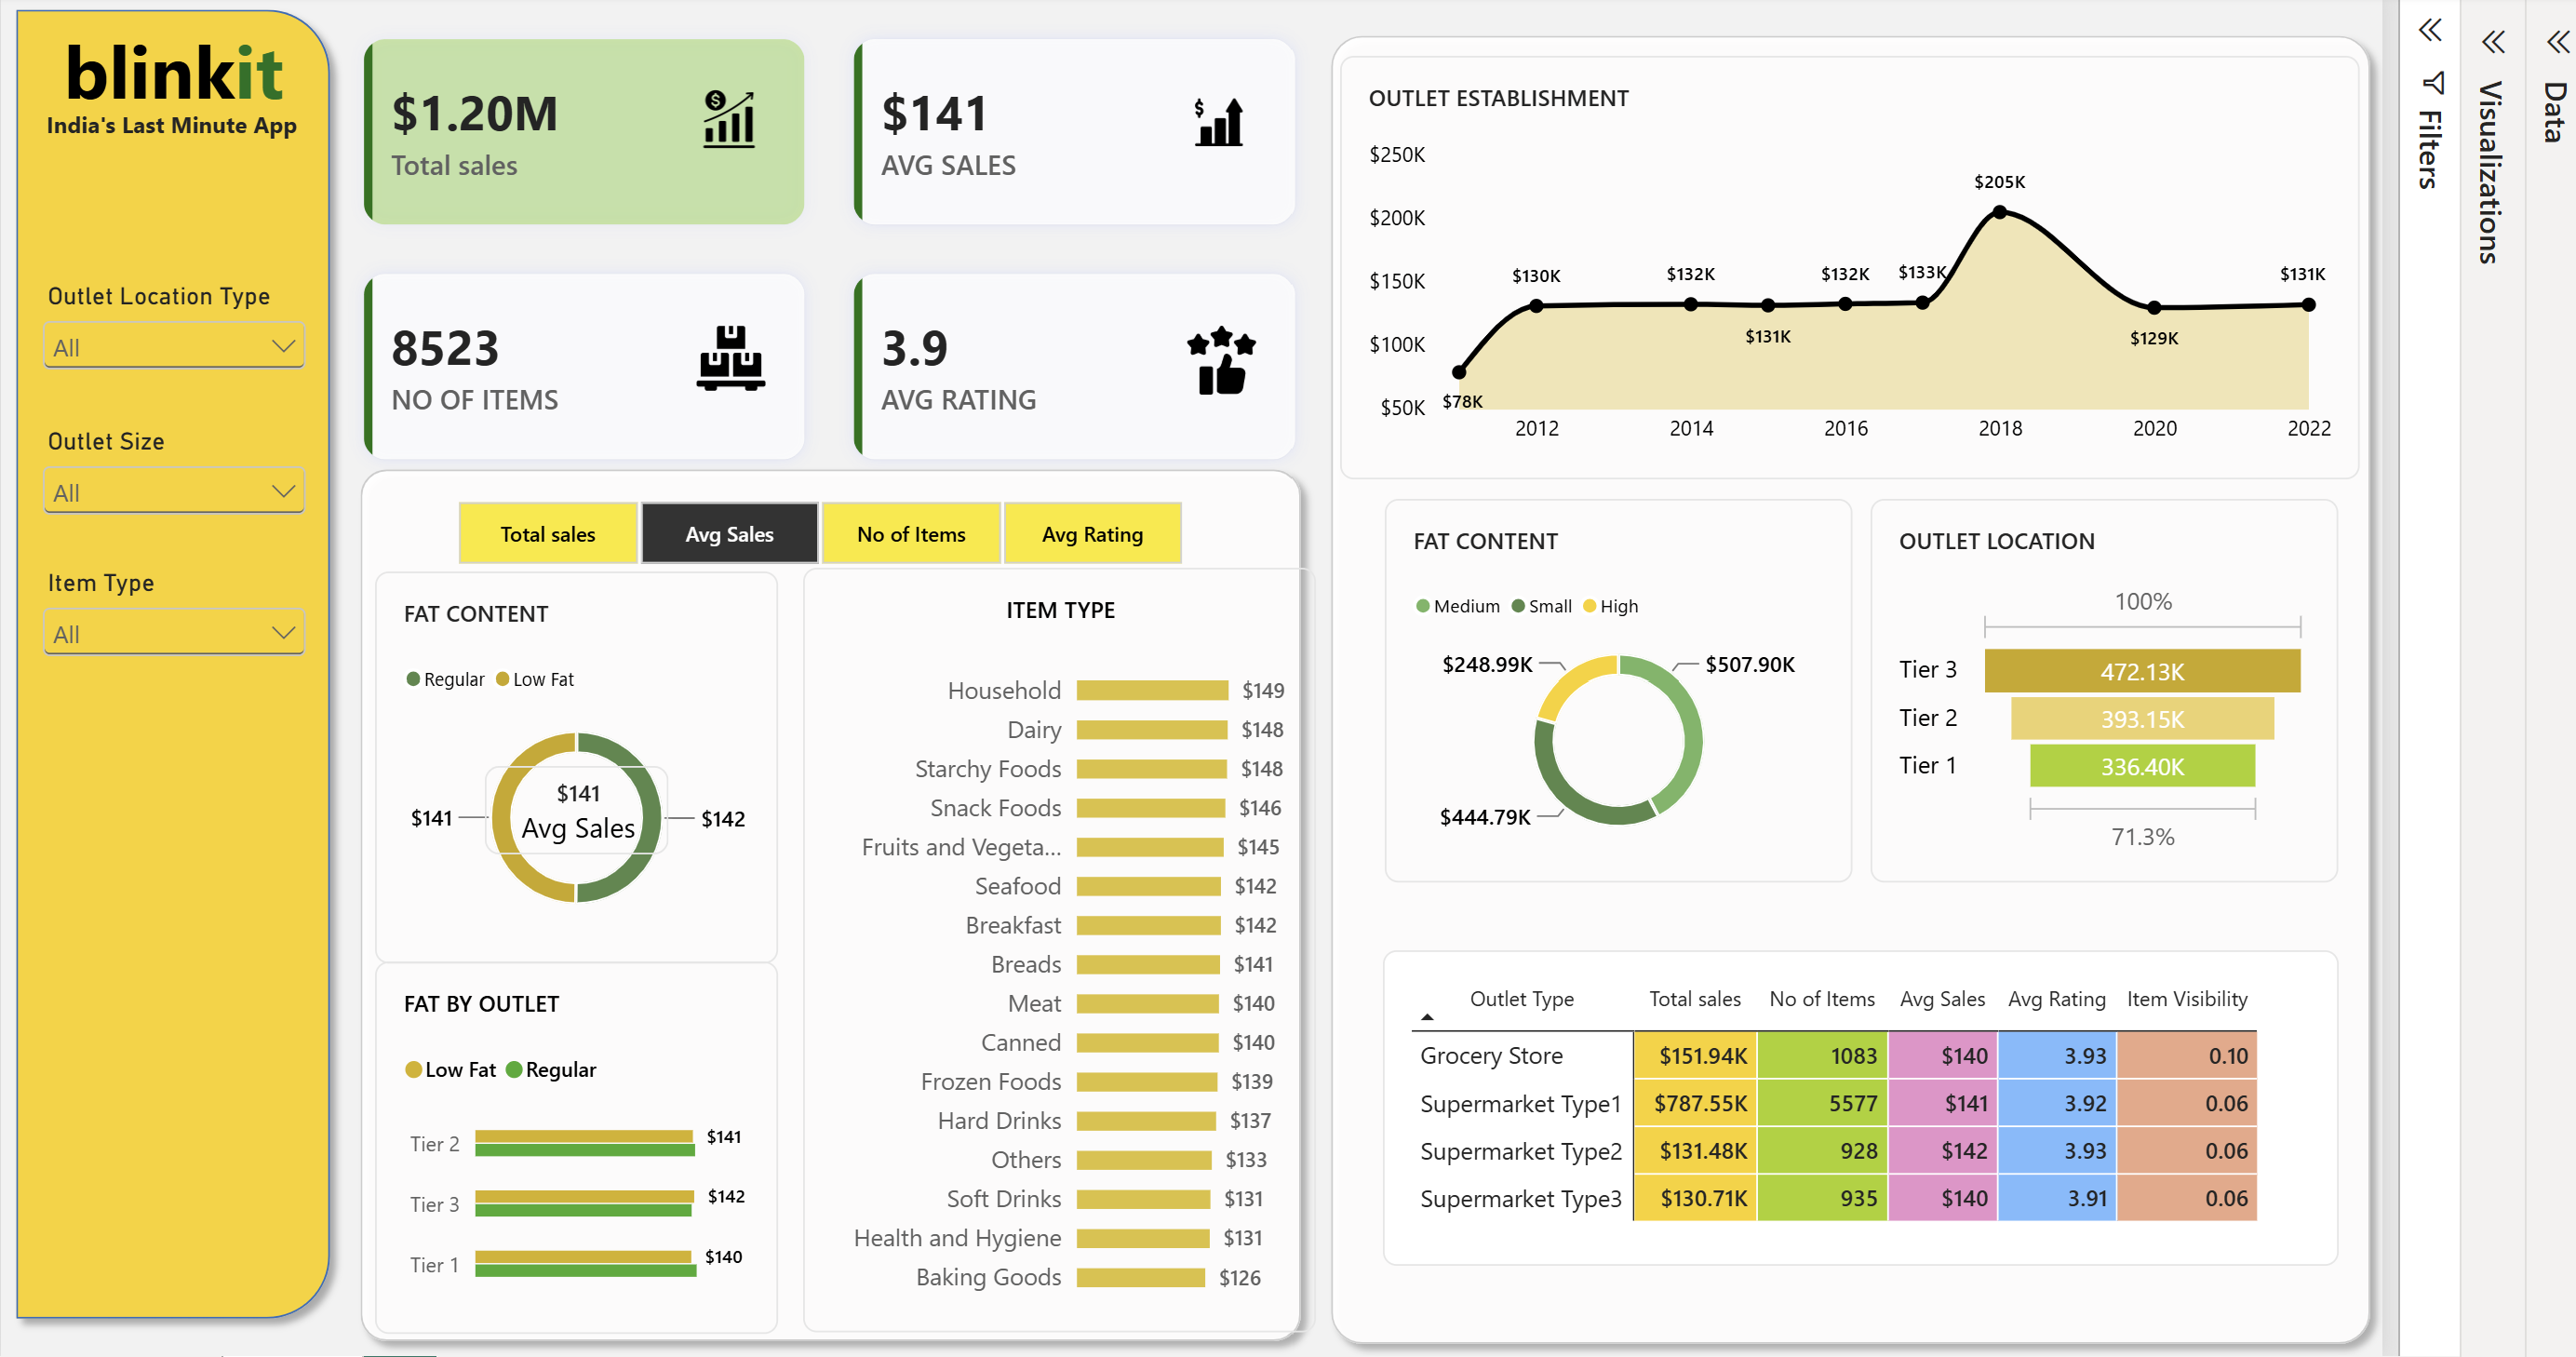

This screenshot's page, from the dashboard's own definition file:
{"tool":"powerbi","page":{"name":"Page 1","canvas":[1400,800],"ordinal":0},"visuals":[{"type":"shape","box":[0,0,202.4,787],"z":0},{"type":"textbox","box":[20,15.7,164,61.3],"z":1000},{"type":"textbox","box":[4.3,67,192.5,47],"z":2000},{"type":"cardVisual","fields":{"Data":["BlinkIT Grocery Data.Total sales","BlinkIT Grocery Data.Avg Sales","BlinkIT Grocery Data.No of Items","BlinkIT Grocery Data.Avg Rating"]},"box":[202.2,15.3,570,270],"z":3000},{"type":"image","box":[686.1,60,60,30],"z":4000},{"type":"image","box":[396,55.8,64.1,34.9],"z":5000},{"type":"image","box":[400.2,193.8,57.2,40.4],"z":6000},{"type":"image","box":[695.8,195.2,43.2,40.4],"z":7000},{"type":"shape","box":[202.2,270.5,570.3,529.9],"z":8000},{"type":"donutChart","title":"FAT CONTENT","fields":{"Category":["BlinkIT Grocery Data.Item Fat Content"],"Y":["BlinkIT Grocery Data.Avg Sales"]},"box":[220.3,338.8,237.1,230.1],"z":9000},{"type":"slicer","fields":{"Values":["Metrics.Metrics"]},"box":[248.2,297,465,40],"z":10000},{"type":"cardVisual","fields":{"Data":["BlinkIT Grocery Data.Avg Sales"]},"box":[284.5,453.2,108.8,53],"z":10001},{"type":"clusteredBarChart","title":"FAT BY OUTLET","fields":{"Category":["BlinkIT Grocery Data.Outlet Location Type"],"Series":["BlinkIT Grocery Data.Item Fat Content"],"Y":["BlinkIT Grocery Data.Avg Sales"]},"box":[220.3,567.5,237.1,218.9],"z":10002},{"type":"barChart","title":"ITEM TYPE","fields":{"Category":["BlinkIT Grocery Data.Item Type"],"Y":["BlinkIT Grocery Data.Avg Sales"]},"box":[471.3,337.5,301.2,449],"z":10003},{"type":"shape","box":[772.5,15.3,628.9,786.5],"z":10004},{"type":"lineChart","title":"OUTLET ESTABLISHMENT","fields":{"Category":["BlinkIT Grocery Data.Outlet Establishment Year"],"Y":["BlinkIT Grocery Data.Total sales"]},"box":[786.5,36.3,599.6,249],"z":10005},{"type":"donutChart","title":"FAT CONTENT","fields":{"Category":["BlinkIT Grocery Data.Outlet Size"],"Y":["BlinkIT Grocery Data.Total sales"]},"box":[812.9,297,275,225],"z":10006},{"type":"funnel","title":"OUTLET LOCATION","fields":{"Category":["BlinkIT Grocery Data.Outlet Location Type"],"Y":["Sum(BlinkIT Grocery Data.Sales)"]},"box":[1098.8,297,275,225],"z":10007},{"type":"pivotTable","fields":{"Rows":["BlinkIT Grocery Data.Outlet Type"],"Values":["BlinkIT Grocery Data.Total sales","BlinkIT Grocery Data.No of Items","BlinkIT Grocery Data.Avg Sales","BlinkIT Grocery Data.Avg Rating","Avg(BlinkIT Grocery Data.Item Visibility)"]},"box":[811.6,562,562,185.5],"z":10008},{"type":"slicer","fields":{"Values":["BlinkIT Grocery Data.Outlet Location Type"]},"box":[19.5,168.7,164.5,66.9],"z":10009},{"type":"slicer","fields":{"Values":["BlinkIT Grocery Data.Outlet Size"]},"box":[19.5,253.8,164.5,66.9],"z":10010},{"type":"slicer","fields":{"Values":["BlinkIT Grocery Data.Item Type"]},"box":[19.5,337.5,164.5,66.9],"z":10011}]}

Visuals, with their boxes on the page's 1400x800 design canvas (x1, y1, x2, y2). These are canvas units, not pixel positions in the 2576x1357 screenshot, which may show the page scaled, cropped or inside an application window:
shape: bbox=[0, 0, 202, 787]
textbox: bbox=[20, 16, 184, 77]
textbox: bbox=[4, 67, 197, 114]
cardVisual - BlinkIT Grocery Data.Total sales x BlinkIT Grocery Data.Avg Sales: bbox=[202, 15, 772, 285]
image: bbox=[686, 60, 746, 90]
image: bbox=[396, 56, 460, 91]
image: bbox=[400, 194, 457, 234]
image: bbox=[696, 195, 739, 236]
shape: bbox=[202, 270, 772, 800]
"FAT CONTENT" donutChart: bbox=[220, 339, 457, 569]
slicer - Metrics.Metrics: bbox=[248, 297, 713, 337]
cardVisual - BlinkIT Grocery Data.Avg Sales: bbox=[284, 453, 393, 506]
"FAT BY OUTLET" clusteredBarChart: bbox=[220, 568, 457, 786]
"ITEM TYPE" barChart: bbox=[471, 338, 772, 786]
shape: bbox=[772, 15, 1401, 802]
"OUTLET ESTABLISHMENT" lineChart: bbox=[786, 36, 1386, 285]
"FAT CONTENT" donutChart: bbox=[813, 297, 1088, 522]
"OUTLET LOCATION" funnel: bbox=[1099, 297, 1374, 522]
pivotTable - BlinkIT Grocery Data.Outlet Type x BlinkIT Grocery Data.Total sales: bbox=[812, 562, 1374, 748]
slicer - BlinkIT Grocery Data.Outlet Location Type: bbox=[20, 169, 184, 236]
slicer - BlinkIT Grocery Data.Outlet Size: bbox=[20, 254, 184, 321]
slicer - BlinkIT Grocery Data.Item Type: bbox=[20, 338, 184, 404]
